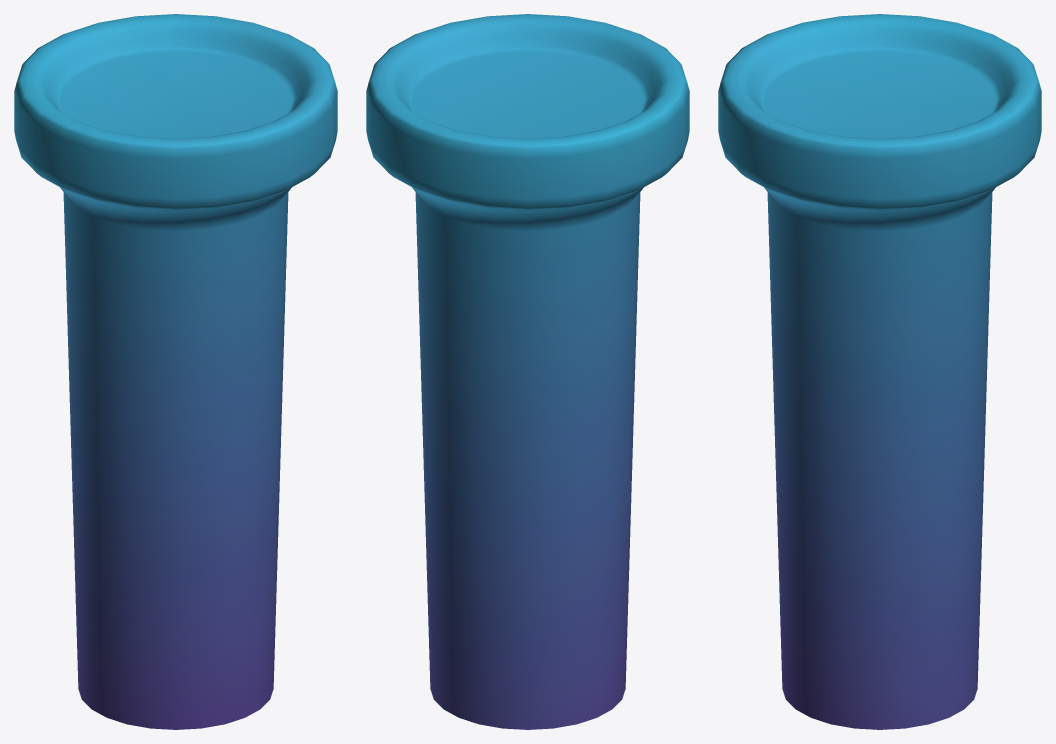
The model's file is Platform002.fbx.
3 views of the same model, side by side, from view 1: azimuth 30°, elevation 25°; view 2: azimuth 150°, elevation 25°; view 3: azimuth 270°, elevation 25° (orthographic).
Visible parts, largest first — view 1: Platform1; view 2: Platform1; view 3: Platform1.
Part boxes in pixels (left/top/right/bottom): Platform1: left=14, top=14, right=337, bottom=729; Platform1: left=366, top=14, right=689, bottom=729; Platform1: left=718, top=14, right=1041, bottom=729.
Bounding box in the file's own units: 154 × 321 × 154.
